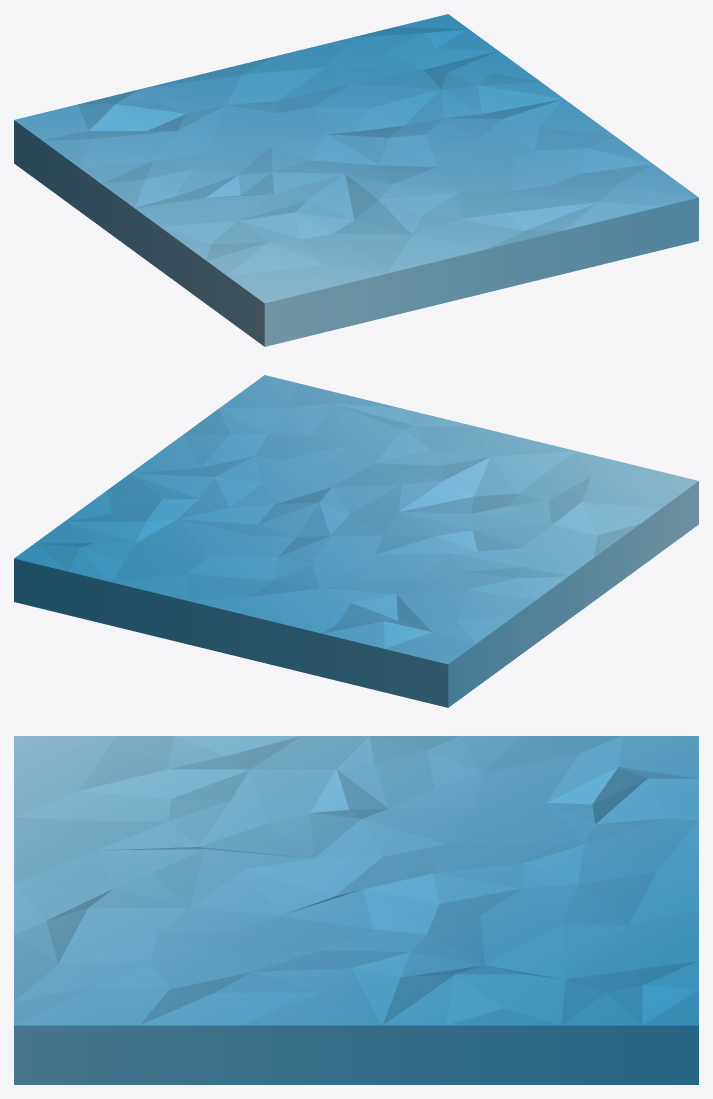
Rendered from water location treasure Island.fbx.
3 views of the same model, one above another, from view 1: azimuth 30°, elevation 25°; view 2: azimuth 150°, elevation 25°; view 3: azimuth 270°, elevation 25° (orthographic). The views are drawn at different scales.
Parts seen in each view (by area): view 1: water location water location treasure Island; view 2: water location water location treasure Island; view 3: water location water location treasure Island.
Part boxes in pixels (<box>): water location water location treasure Island: <box>14,14,698,346</box>; water location water location treasure Island: <box>14,375,698,707</box>; water location water location treasure Island: <box>14,736,698,1084</box>.
Size of the model in its own units: 4500 by 537 by 4500.
